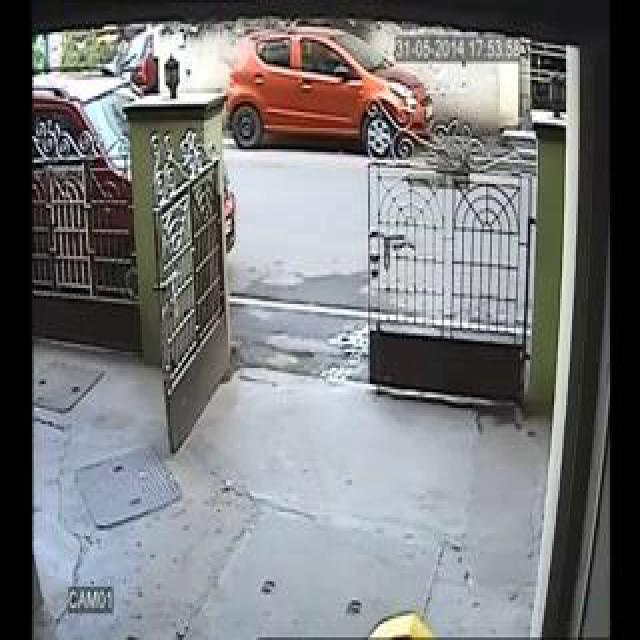stealing: (130, 28, 354, 392)
